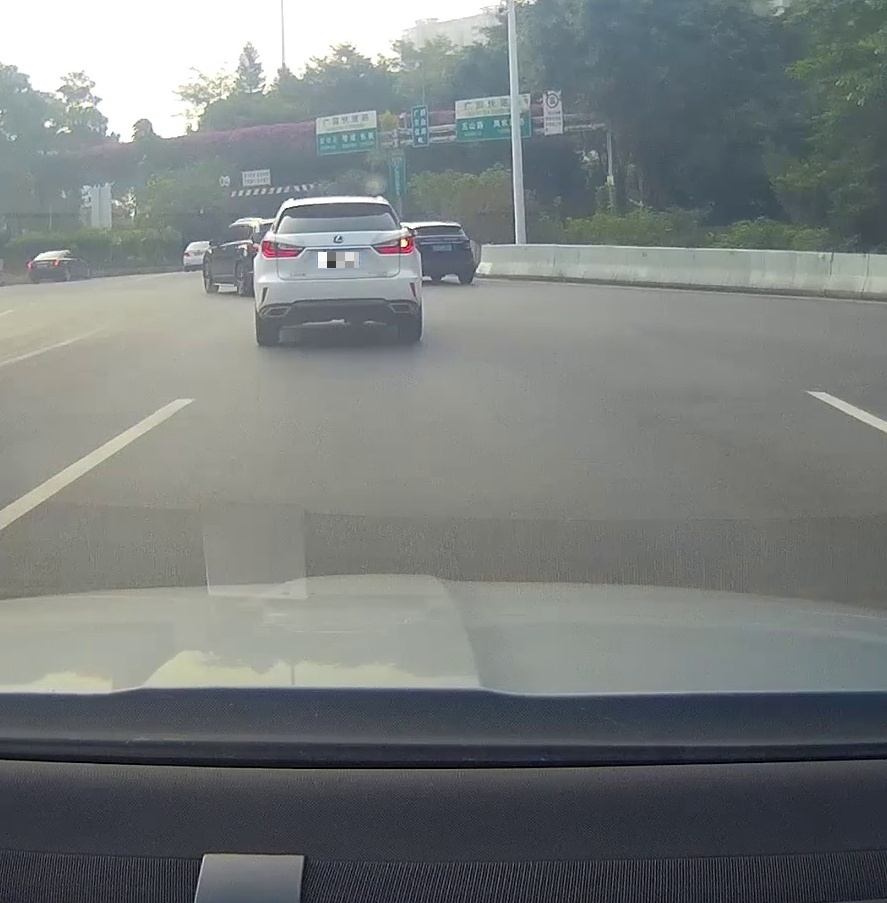L_light: (262, 240, 306, 258)
R_light: (370, 235, 414, 254)
T_light: (328, 200, 346, 205)
day-right: (256, 196, 419, 344)
plate_1: (318, 252, 359, 268)
